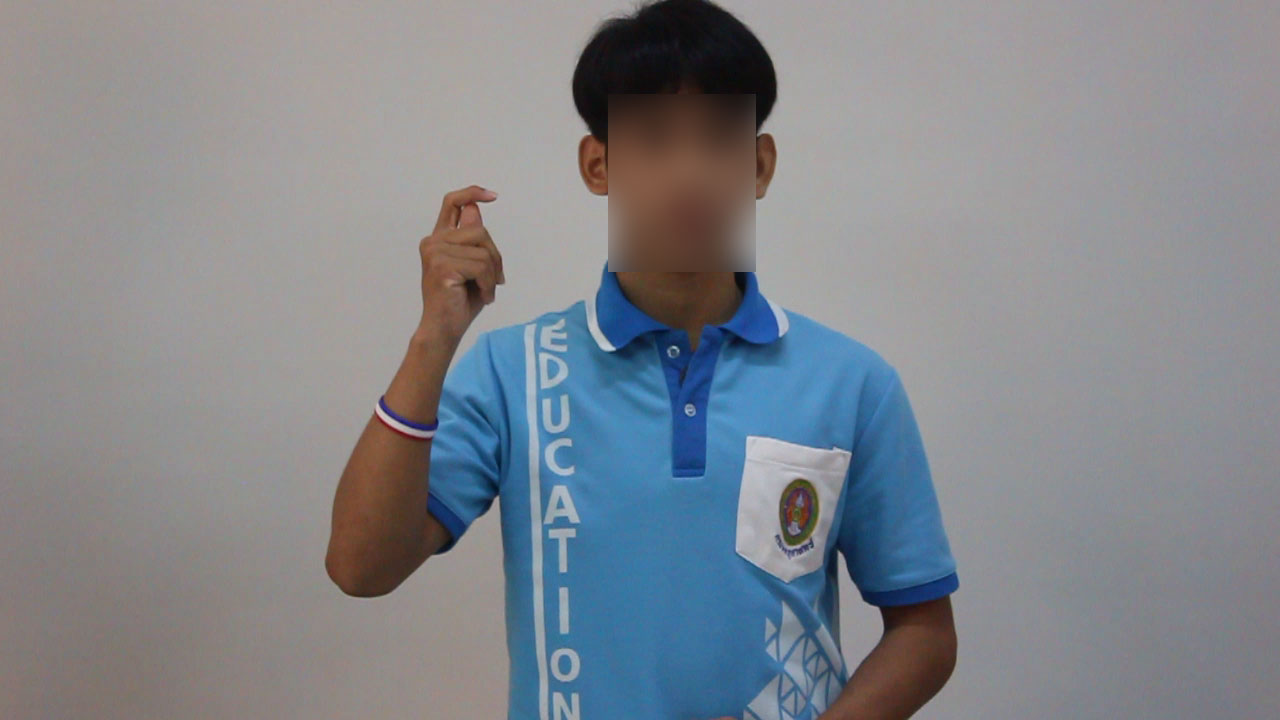or: (413, 180, 513, 354)
